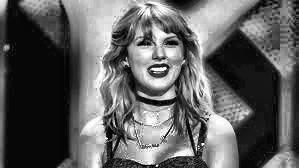happy: (121, 12, 198, 108)
